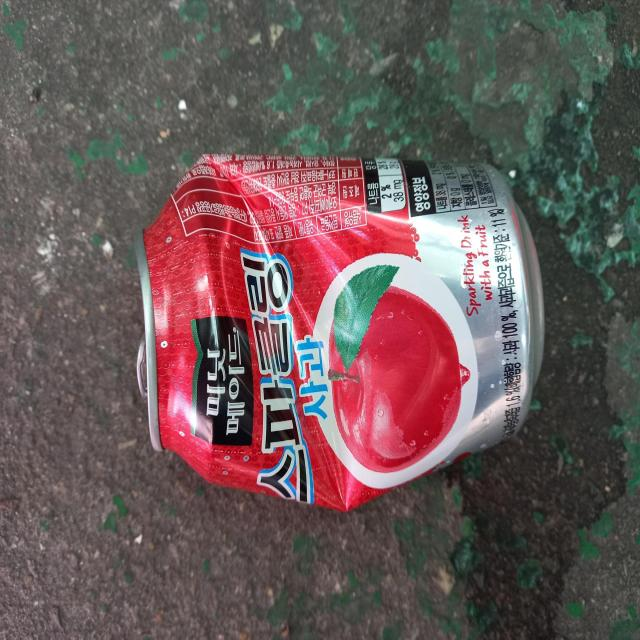can: (135, 154, 545, 510)
